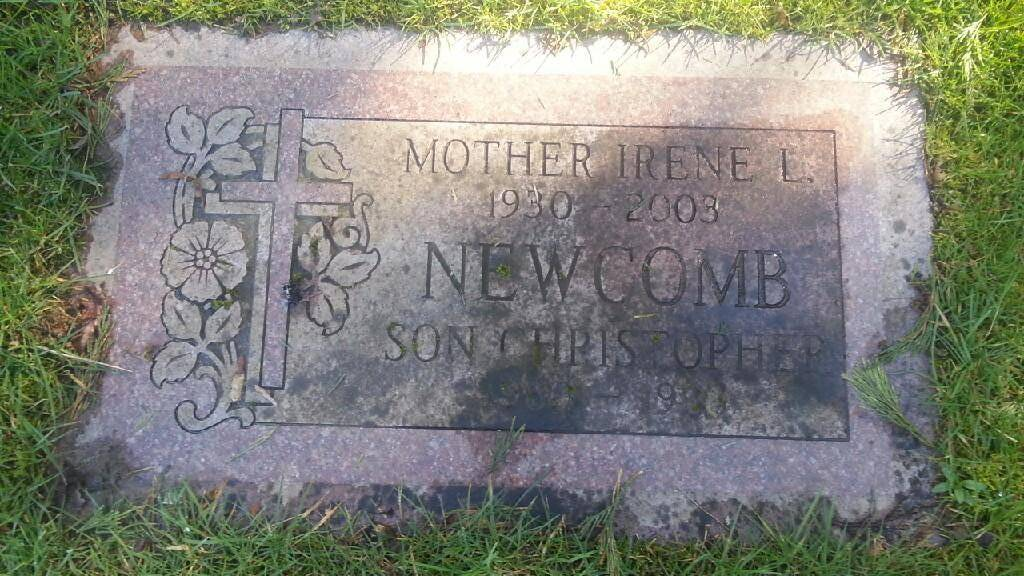flat: (77, 24, 938, 533)
